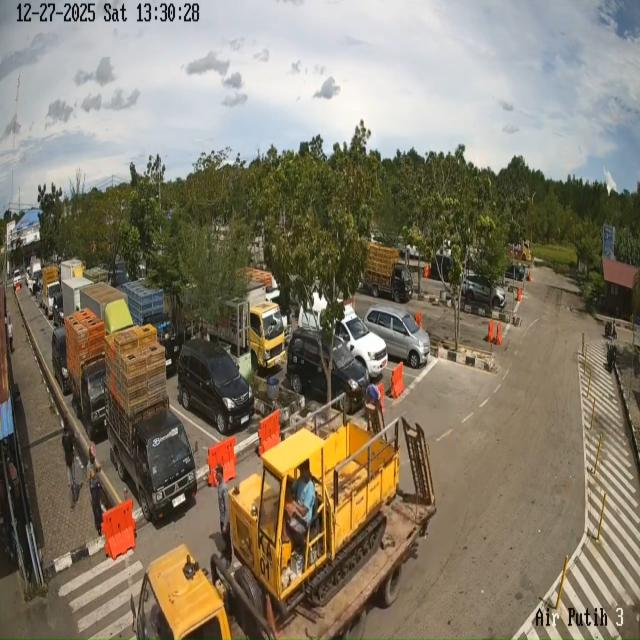Golongan IVA: (177, 338, 255, 435), (286, 328, 369, 412), (364, 305, 430, 369), (462, 274, 506, 309), (51, 326, 71, 395)
Golongan IVB: (106, 362, 196, 522), (63, 316, 111, 447), (120, 281, 179, 371), (363, 242, 413, 303), (40, 265, 59, 316)
Golongan VB: (130, 407, 436, 640)
